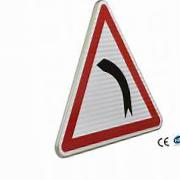left: (55, 1, 164, 155)
